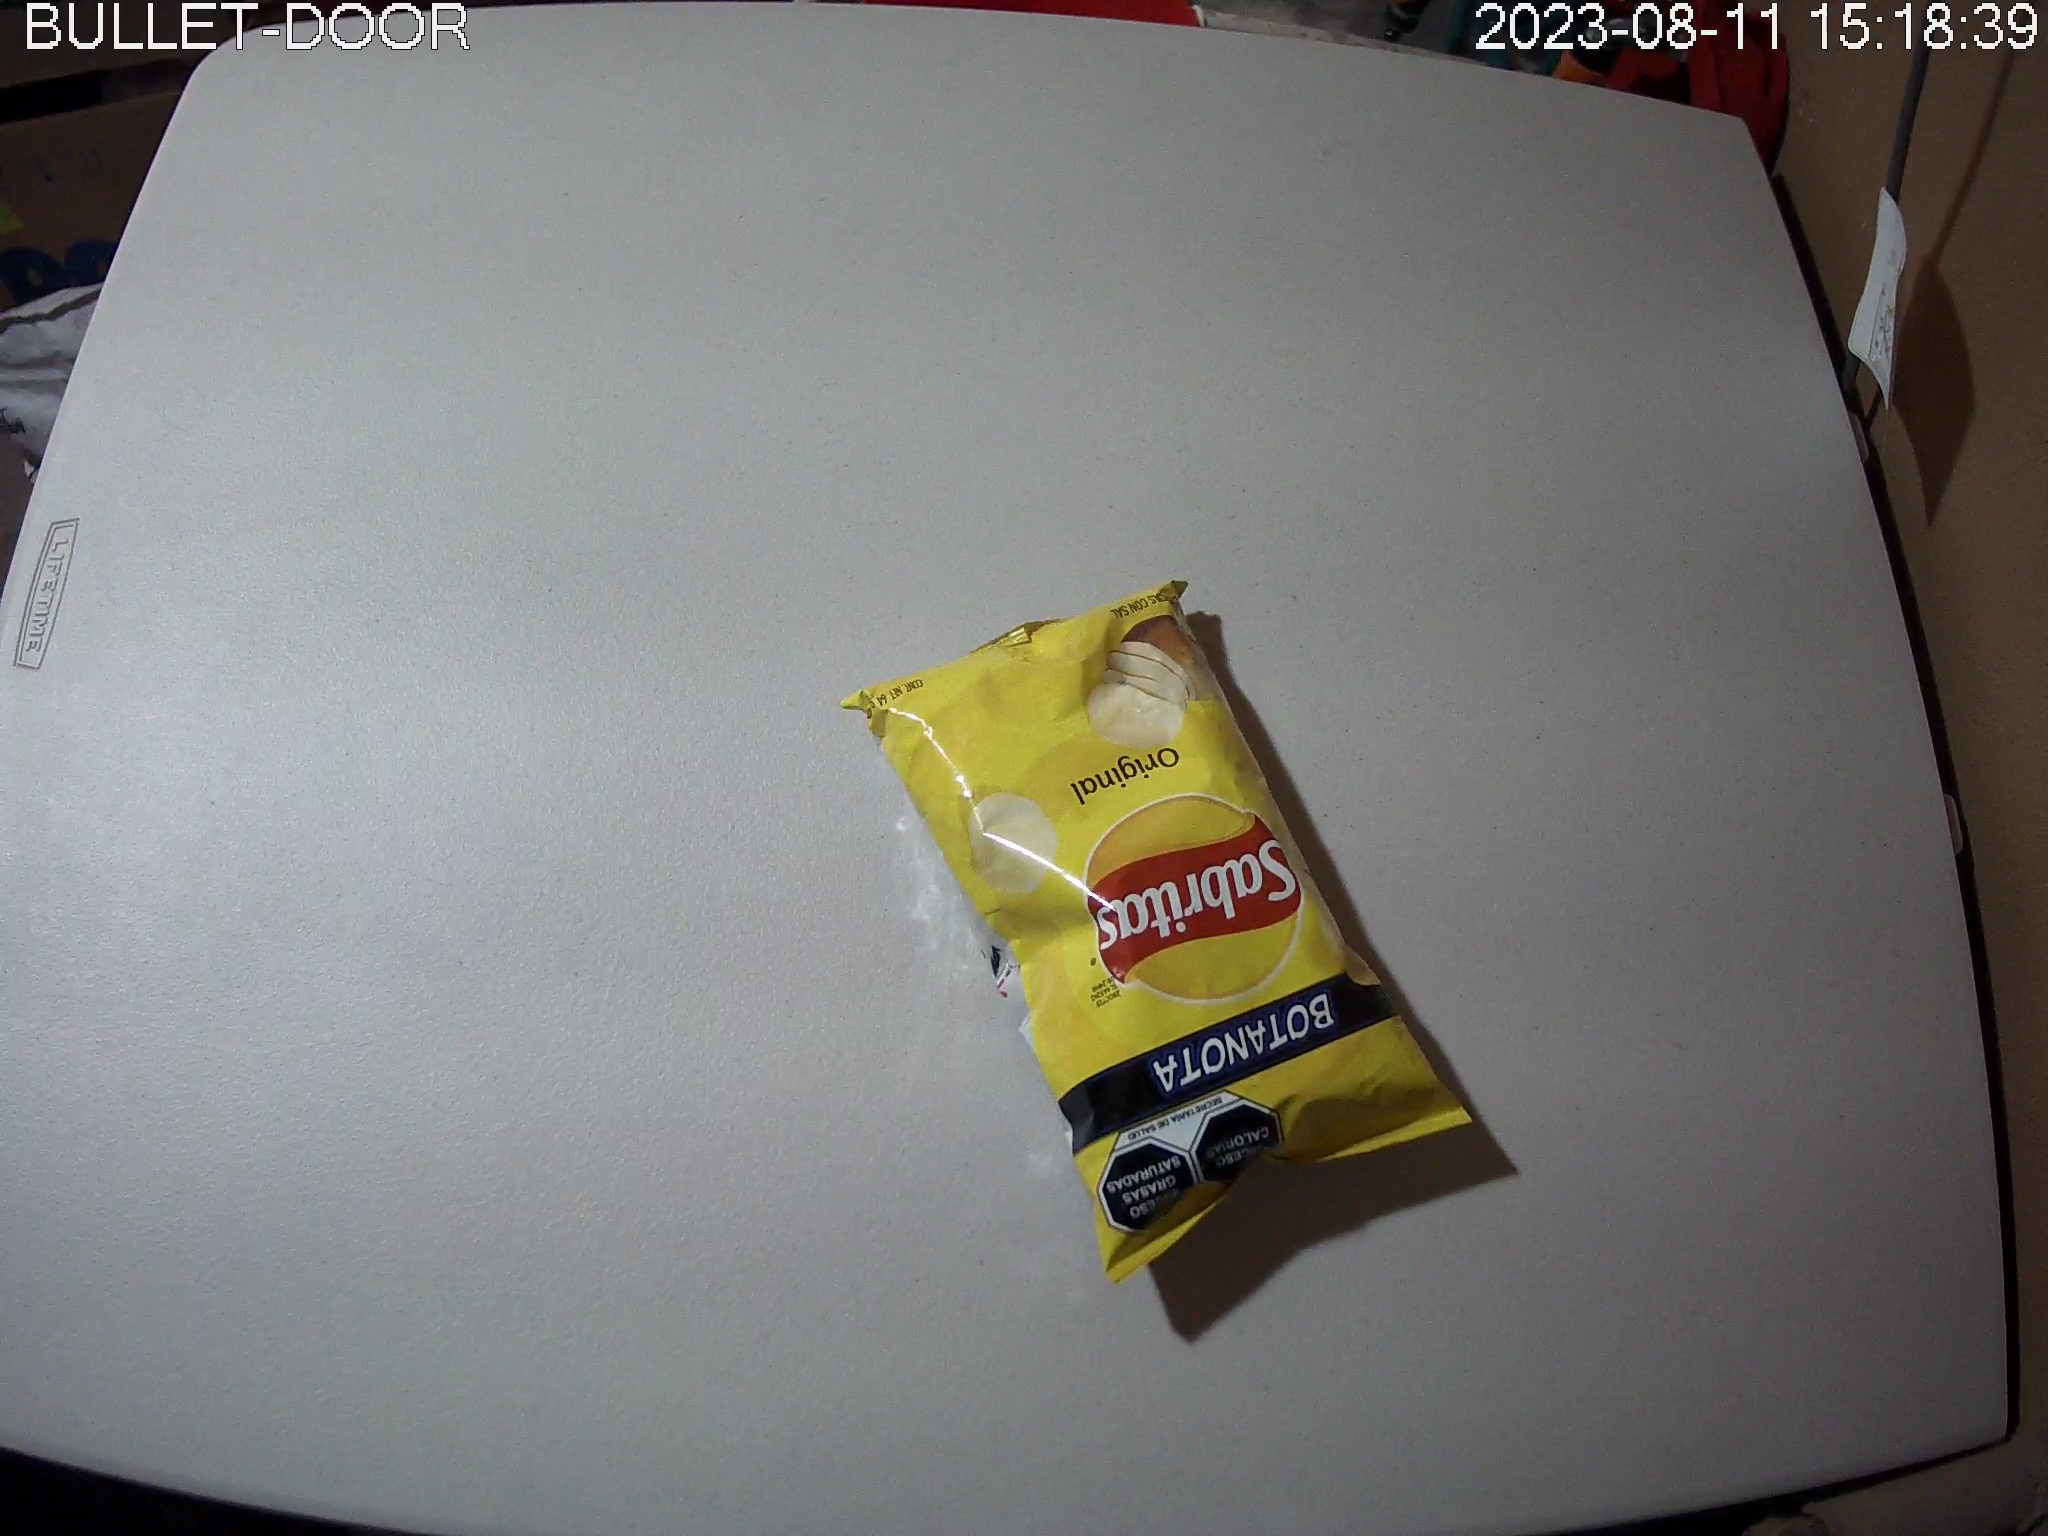Sabritas_64_F: (837, 576, 1477, 1284)
